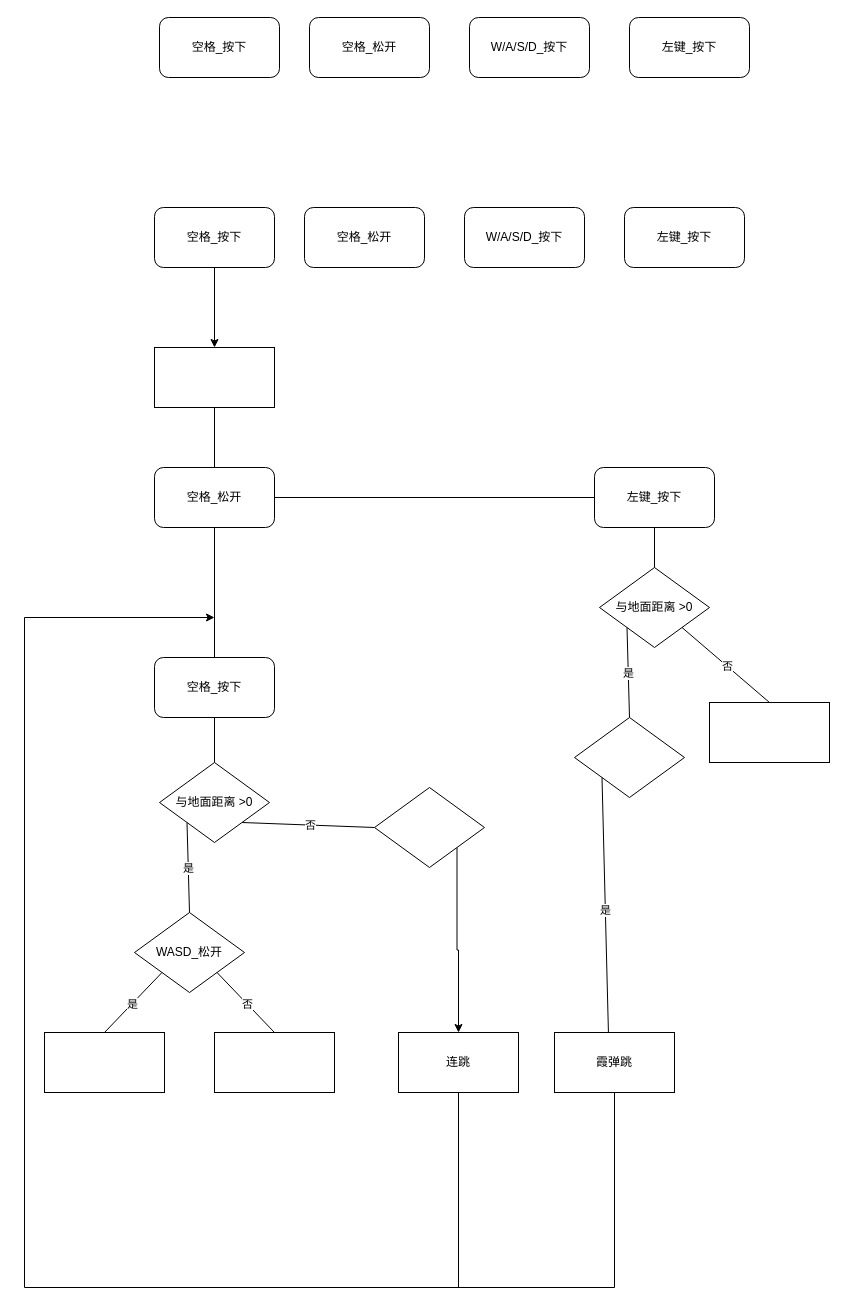
Some shapes in this 847 by 1313 pixel diagram are drawn without their labels. Each missing label, with the centre of its shape:
下砸: (104,1062)
冲刺: (274,1062)
射击: (769,732)
落地时间<0.2s: (429,827)
视角向下: (629,757)
跳跃: (214,377)
